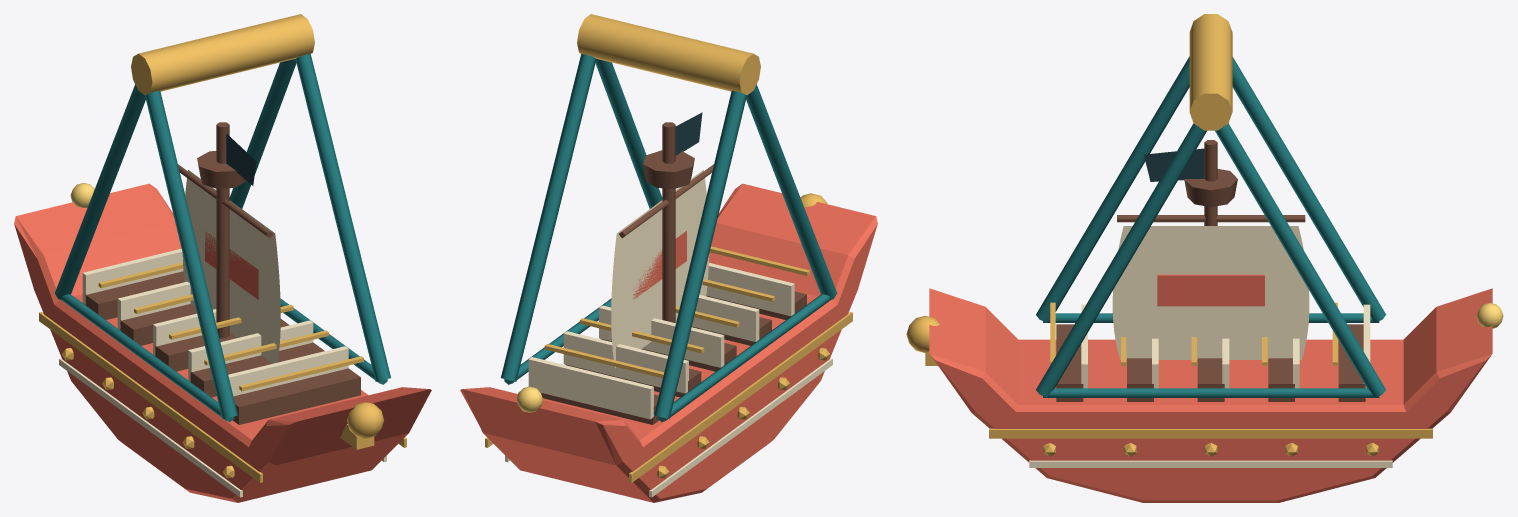
Rendered from ride_pirate_motion.glb.
The picture shows the model from 3 angles, left to right: view 1: azimuth 30°, elevation 25°; view 2: azimuth 150°, elevation 25°; view 3: azimuth 270°, elevation 25°; orthographic projection.
Parts seen in each view (by area): view 1: ride_pirate_motion; view 2: ride_pirate_motion; view 3: ride_pirate_motion.
Part boxes in pixels (x1=…): ride_pirate_motion: x1=14, y1=14, x2=431, y2=502; ride_pirate_motion: x1=460, y1=14, x2=877, y2=502; ride_pirate_motion: x1=906, y1=14, x2=1503, y2=502.
Size of the model in its own units: 2.85 by 6.83 by 8.88.
